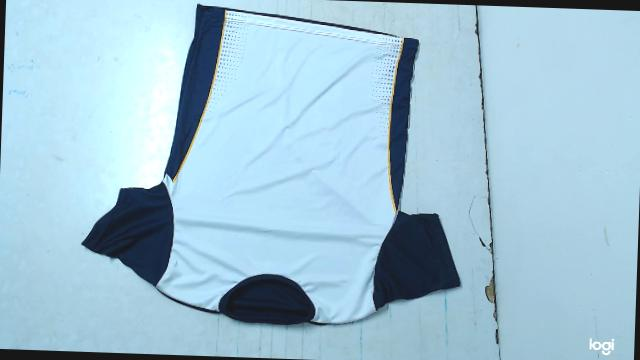new-garment: (84, 6, 459, 324)
